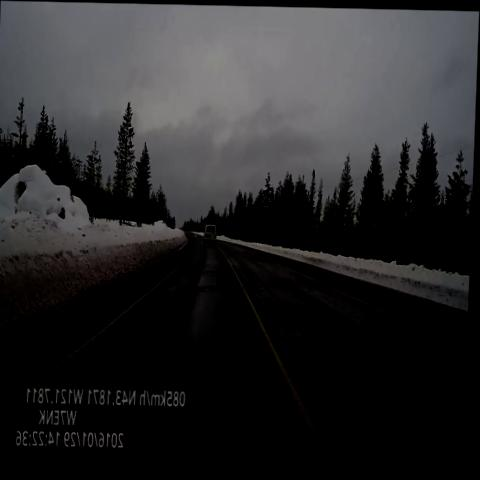pothole: (295, 265, 334, 303), (244, 243, 274, 270), (204, 259, 225, 279), (202, 283, 221, 295)
